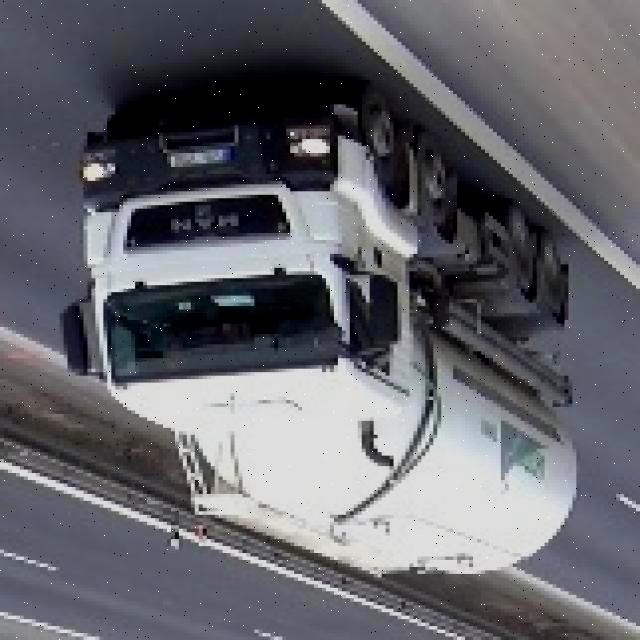truck: (55, 83, 572, 581)
